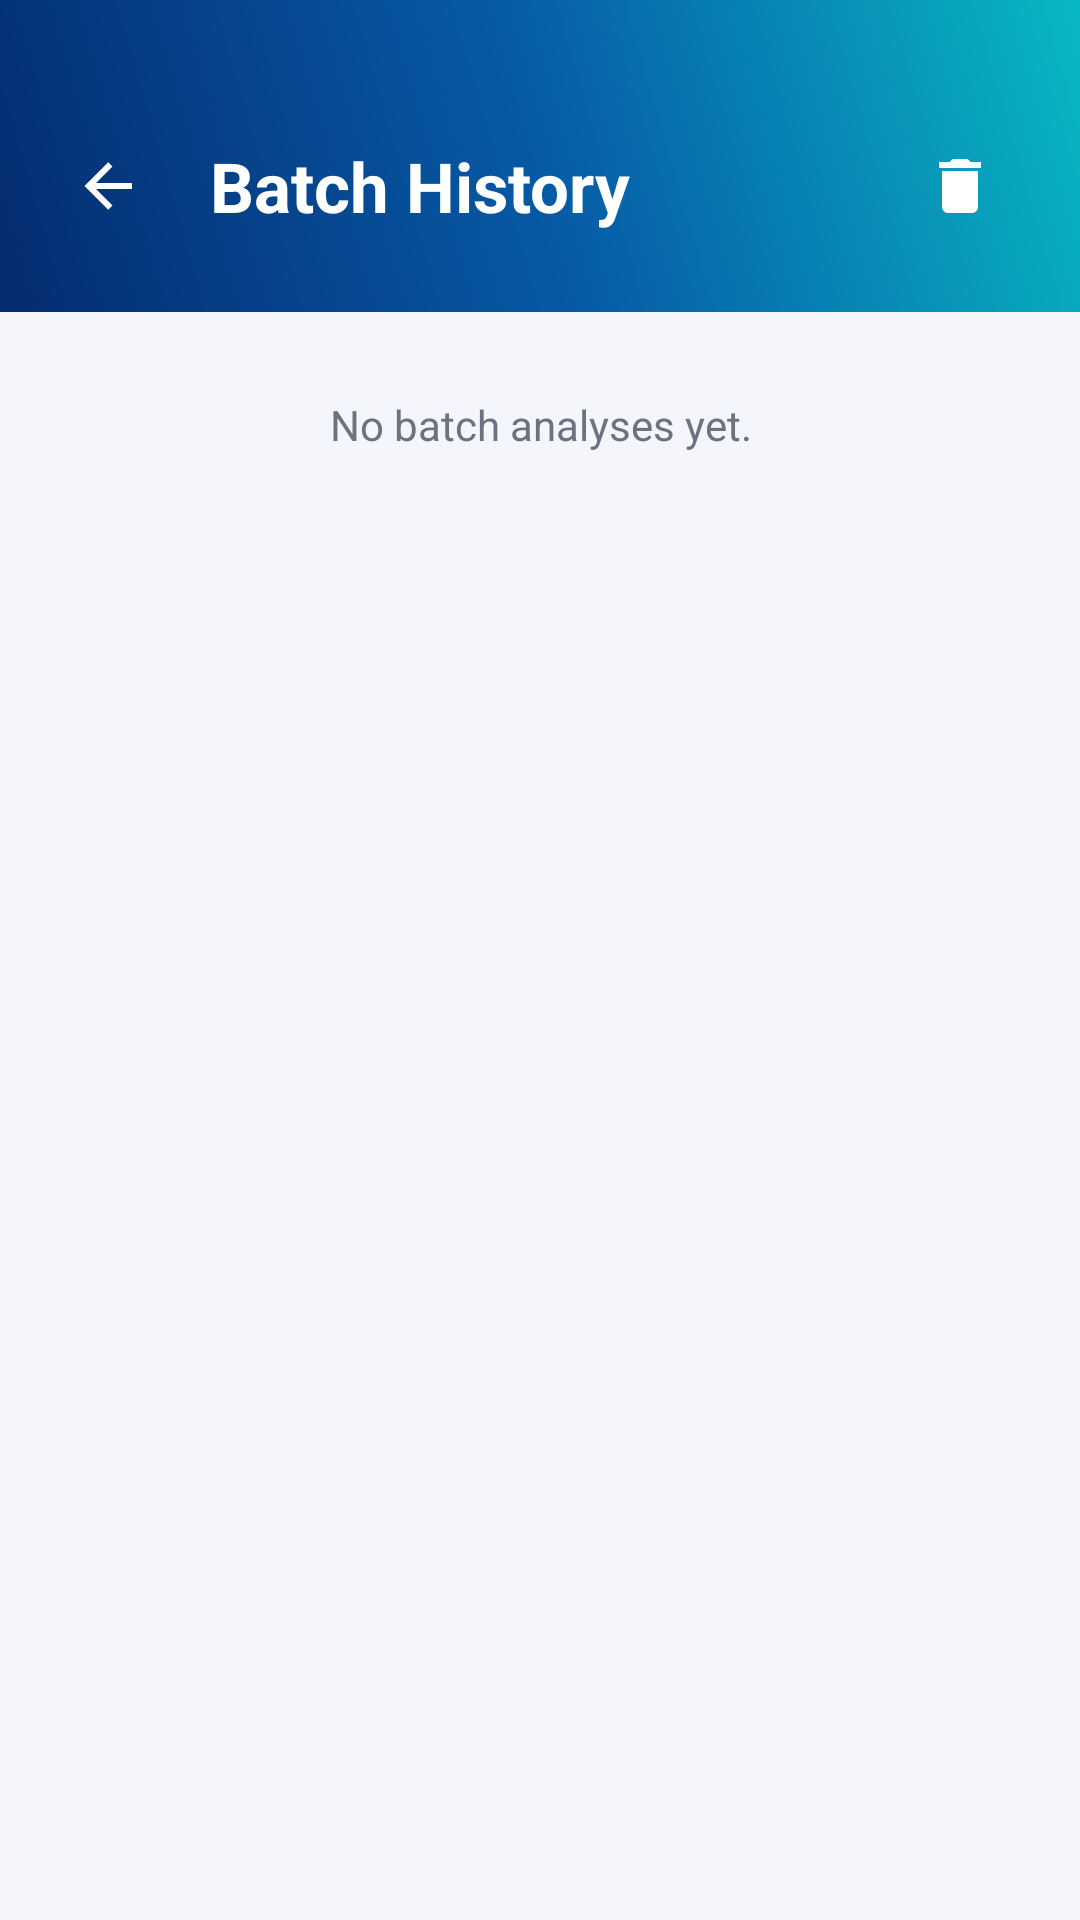

Named icons in this screenshot (1080 x 1920) and their centers, (x,y):
Back: (108,186)
